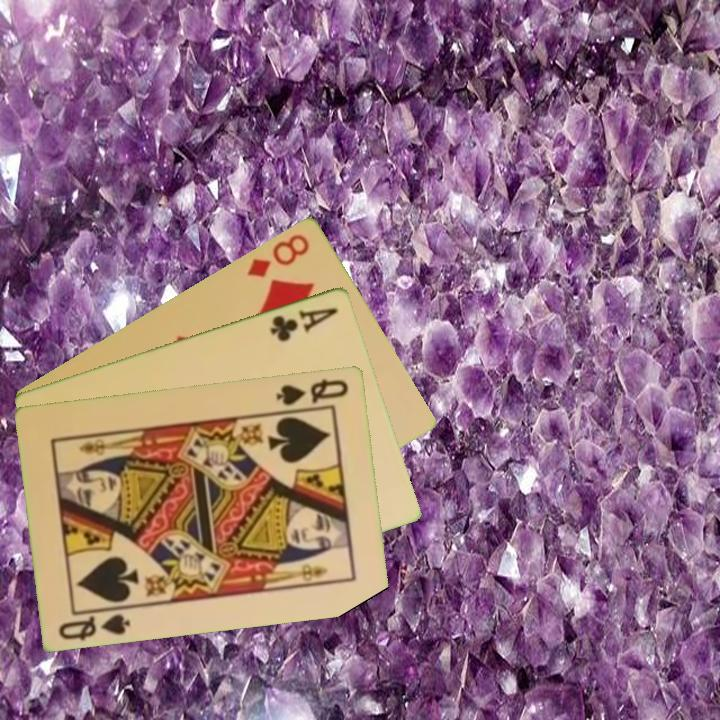8d: (243, 229, 313, 280)
Ac: (267, 303, 342, 344)
Qs: (55, 603, 134, 643), (273, 374, 352, 408)
